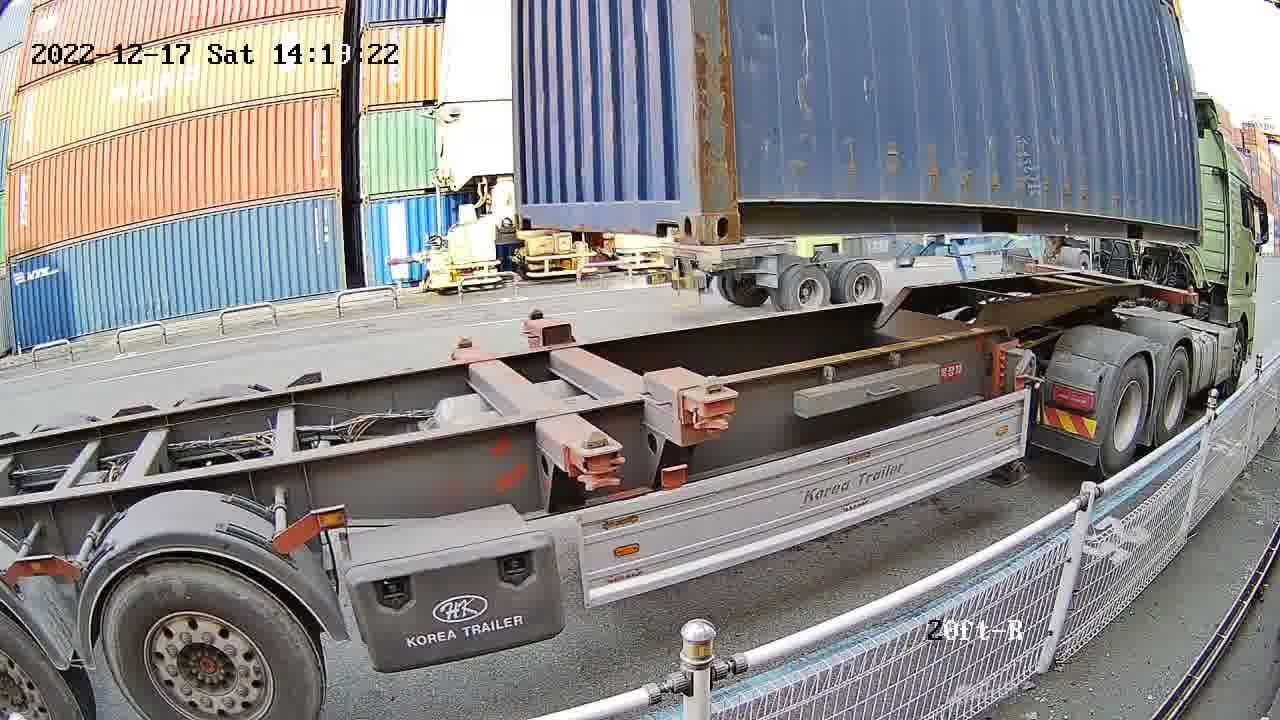Chassis: (529, 322, 706, 448)
Cone: (691, 373, 741, 433), (524, 306, 552, 329)
Hole_L: (699, 156, 783, 241), (513, 184, 551, 231)
Hole_R: (644, 161, 701, 243)
Tire: (110, 566, 320, 719), (1101, 359, 1154, 474), (1157, 352, 1191, 439)
